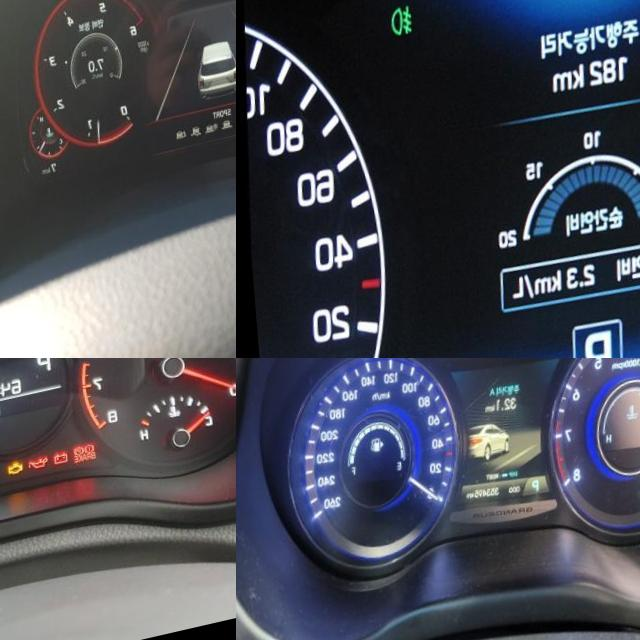FrontFogLight: (388, 8, 413, 46), (535, 358, 546, 364)
SideLamp: (546, 358, 566, 366)
